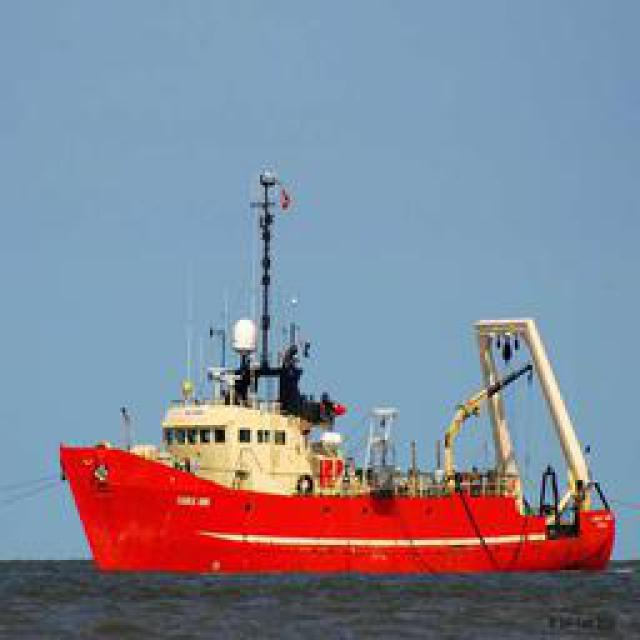Ship: (56, 225, 621, 575)
